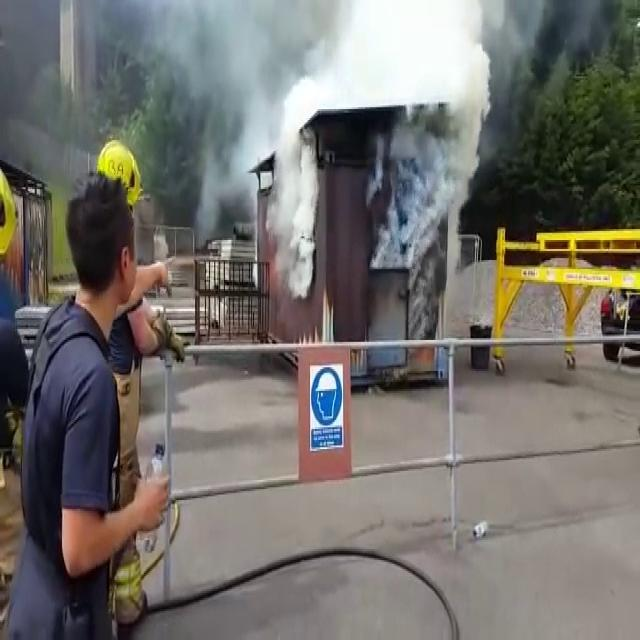Smoke: (262, 0, 462, 92), (402, 90, 476, 234)
